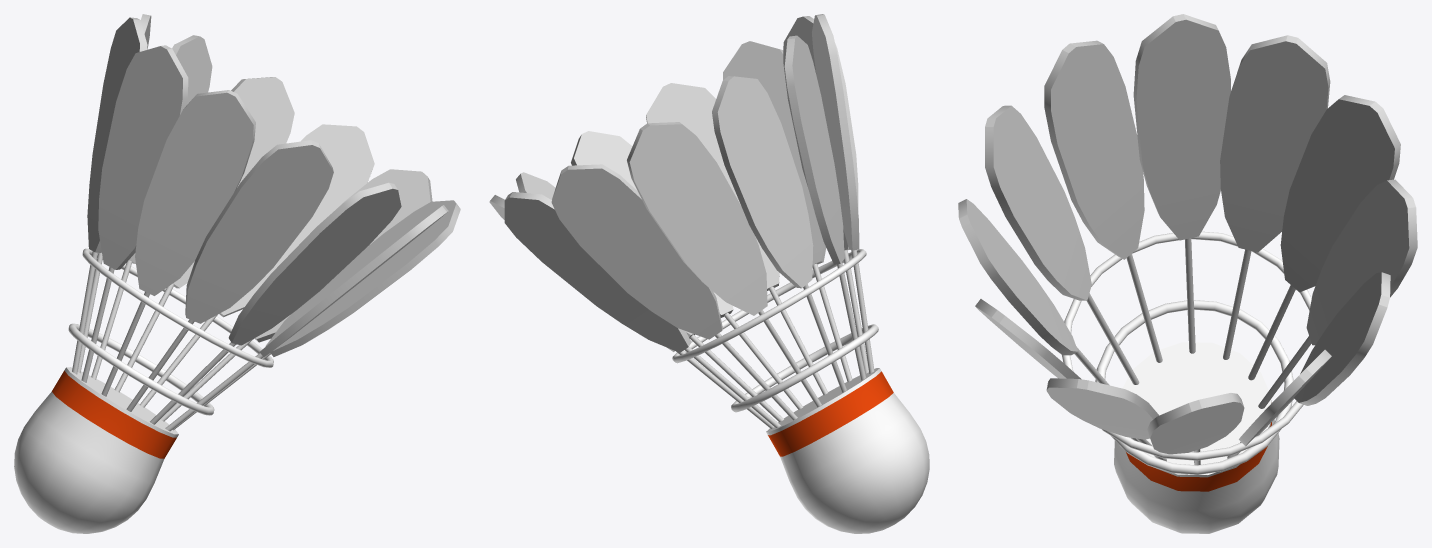
Rendered from shuttlecock.glb.
3 views of the same model, side by side, from view 1: azimuth 30°, elevation 25°; view 2: azimuth 150°, elevation 25°; view 3: azimuth 270°, elevation 25° (orthographic). The views are drawn at different scales.
Parts seen in each view (by area): view 1: Obj_Cork; view 2: Obj_Cork; view 3: Obj_Cork.
Part boxes in pixels (<box>): Obj_Cork: <box>14,14,460,533</box>; Obj_Cork: <box>489,14,929,533</box>; Obj_Cork: <box>958,14,1417,533</box>.
Bounding box in the file's own units: 1.75 × 1.94 × 1.46.
